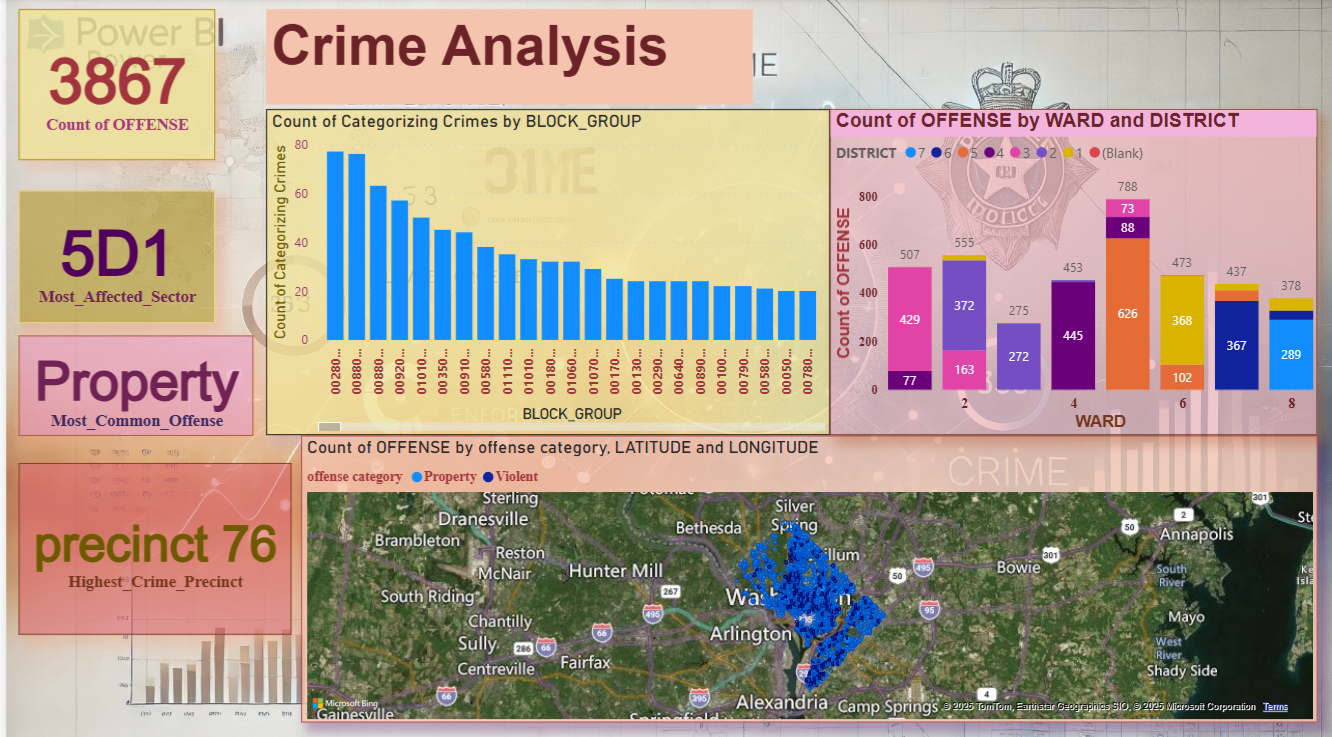

The page's visual inventory and layout, read from the dashboard file:
{"tool":"powerbi","page":{"name":"Page 1","canvas":[1280,720],"ordinal":0},"visuals":[{"type":"card","fields":{"Values":["CountNonNull(Onyx Data -DataDNA Dataset Chal.OFFENSE)"]},"box":[12.1,10.9,189.3,145.9],"z":0},{"type":"card","fields":{"Values":["Onyx Data -DataDNA Dataset Chal.Most_Affected_Sector"]},"box":[12.1,185.7,189.3,127.8],"z":1000},{"type":"clusteredColumnChart","fields":{"Category":["Onyx Data -DataDNA Dataset Chal.BLOCK_GROUP"],"Y":["CountNonNull(Onyx Data -DataDNA Dataset Chal.Categorizing Crimes )"]},"box":[250.9,107.3,543.9,314.8],"z":2000},{"type":"card","fields":{"Values":["Onyx Data -DataDNA Dataset Chal.Most_Common_Offense"]},"box":[12.1,325.6,226.7,96.5],"z":3000},{"type":"textbox","box":[251.1,11,469.3,91.9],"z":4000},{"type":"map","fields":{"Y":["Onyx Data -DataDNA Dataset Chal.LATITUDE"],"X":["Onyx Data -DataDNA Dataset Chal.LONGITUDE"],"Series":["Onyx Data -DataDNA Dataset Chal.offense category"],"Size":["CountNonNull(Onyx Data -DataDNA Dataset Chal.OFFENSE)"]},"box":[284,422.6,981.1,277.2],"z":5000},{"type":"card","fields":{"Values":["Onyx Data -DataDNA Dataset Chal.Highest_Crime_Precinct"]},"box":[12.1,448.6,262.9,165.2],"z":6000},{"type":"columnChart","fields":{"Category":["Onyx Data -DataDNA Dataset Chal.WARD"],"Y":["CountNonNull(Onyx Data -DataDNA Dataset Chal.OFFENSE)"],"Series":["Onyx Data -DataDNA Dataset Chal.DISTRICT"]},"box":[794.5,107,470.7,314.2],"z":7000}]}

Visuals, with their boxes on the page's 1280x720 design canvas (x1, y1, x2, y2). These are canvas units, not pixel positions in the 1332x737 screenshot, which may show the page scaled, cropped or inside an application window:
card - CountNonNull(Onyx Data -DataDNA Dataset Chal.OFFENSE): 12,11,201,157
card - Onyx Data -DataDNA Dataset Chal.Most_Affected_Sector: 12,186,201,314
clusteredColumnChart - Onyx Data -DataDNA Dataset Chal.BLOCK_GROUP x CountNonNull(Onyx Data -DataDNA Dataset Chal.Categorizing Crimes ): 251,107,795,422
card - Onyx Data -DataDNA Dataset Chal.Most_Common_Offense: 12,326,239,422
textbox: 251,11,720,103
map - Onyx Data -DataDNA Dataset Chal.LATITUDE x Onyx Data -DataDNA Dataset Chal.LONGITUDE: 284,423,1265,700
card - Onyx Data -DataDNA Dataset Chal.Highest_Crime_Precinct: 12,449,275,614
columnChart - Onyx Data -DataDNA Dataset Chal.WARD x CountNonNull(Onyx Data -DataDNA Dataset Chal.OFFENSE): 794,107,1265,421
